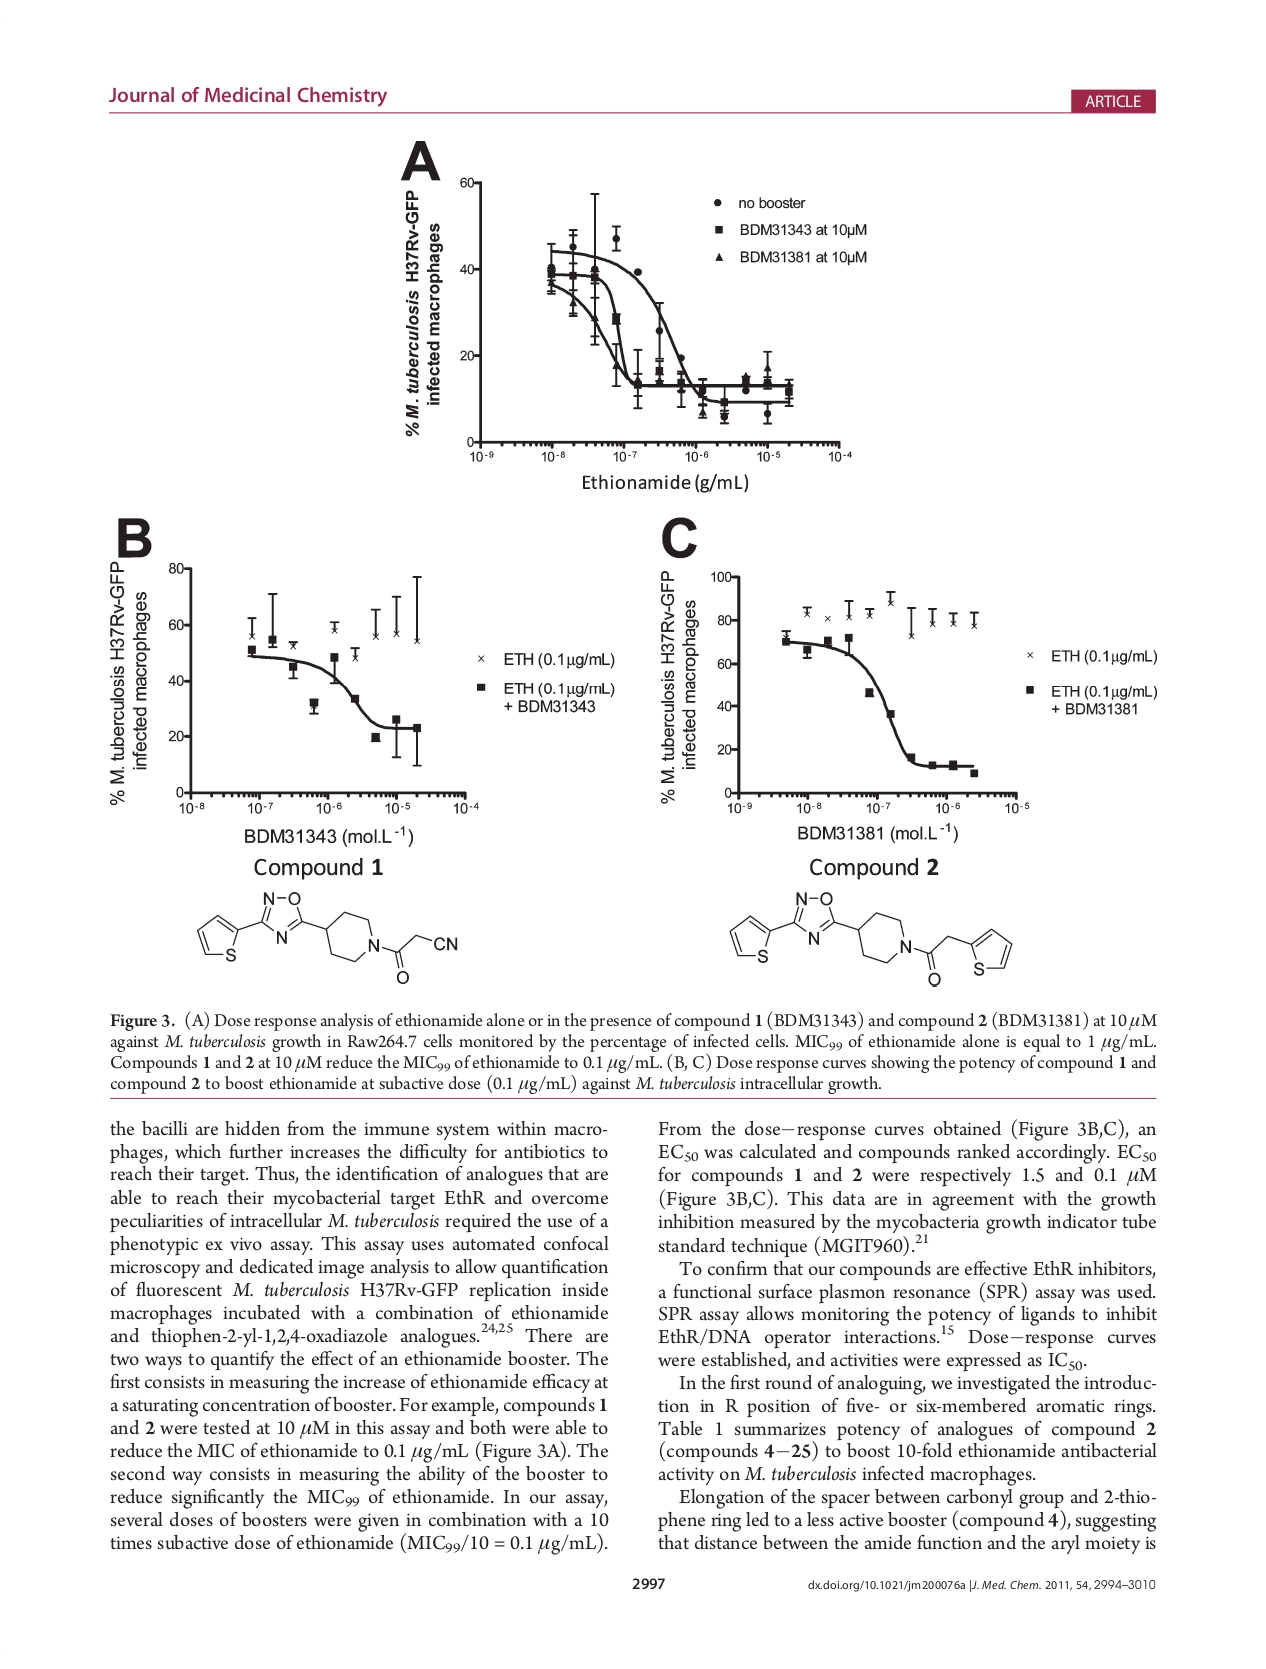exist_molecular: (725, 886, 1017, 989), (191, 890, 463, 989)
